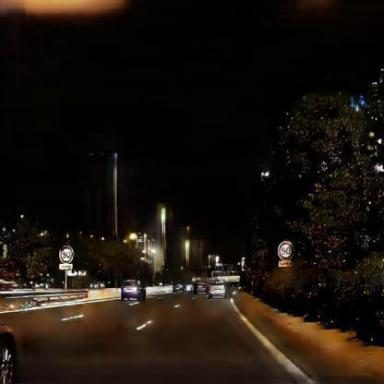Speed_limit_90: (278, 243, 294, 260)
